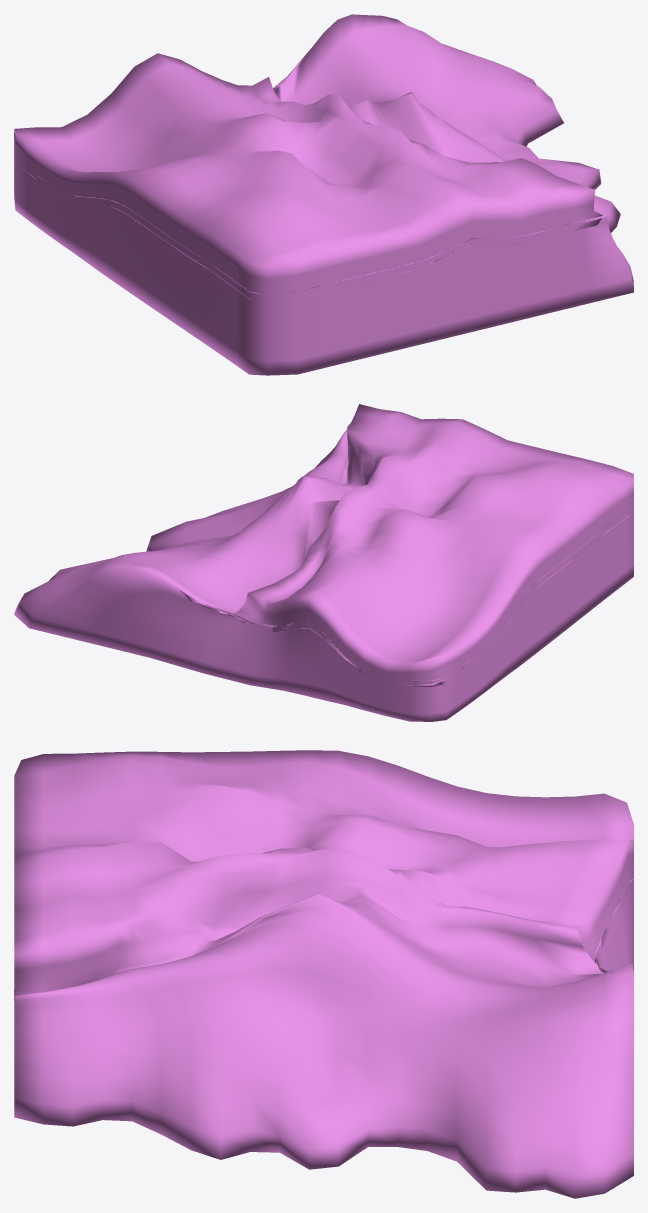
Rendered from fresa_casi_vacio.fbx.
The picture shows the model from 3 angles, top to bottom: view 1: azimuth 30°, elevation 25°; view 2: azimuth 150°, elevation 25°; view 3: azimuth 270°, elevation 25°; orthographic projection. The views are drawn at different scales.
Visible parts, largest first — view 1: Fresa_Casi_Vacio; view 2: Fresa_Casi_Vacio; view 3: Fresa_Casi_Vacio.
Boxes of the visible parts, x1,y1,x2,y2 form: Fresa_Casi_Vacio: (14,14,633,375); Fresa_Casi_Vacio: (14,404,633,721); Fresa_Casi_Vacio: (14,750,633,1198).
Size of the model in its own units: 224 by 62.49 by 189.
